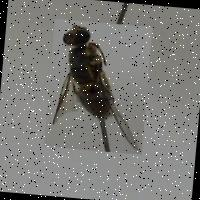Oriental-fruit-fly: (43, 18, 152, 154)
